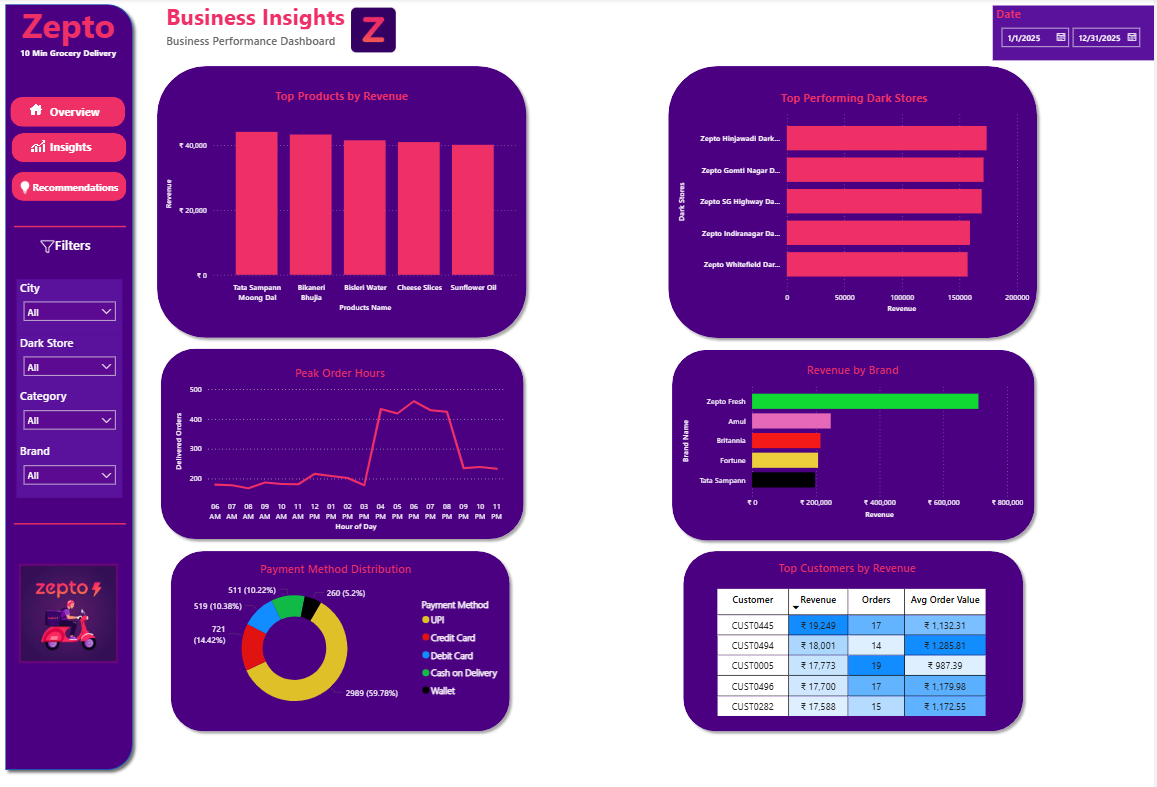

The page's visual inventory and layout, read from the dashboard file:
{"tool":"powerbi","page":{"name":"Business Analytics","canvas":[1400,1050],"ordinal":1},"visuals":[{"type":"shape","box":[842.1,492.1,534.2,288.2],"z":0},{"type":"shape","box":[238.6,775.7,500,273.8],"z":1000},{"type":"shape","box":[0,0,199.5,1049.5],"z":2000},{"type":"image","box":[23.5,799.2,152.5,159.1],"z":3000},{"type":"textbox","box":[19.4,0,159.3,82.9],"z":4000},{"type":"textbox","box":[18.1,63.5,161.9,28.5],"z":5000},{"type":"shape","box":[16.9,139.5,164.3,43],"z":6000,"group":"g1"},{"type":"textbox","box":[70.4,336.4,75.6,35.2],"z":6000},{"type":"shape","box":[16.9,194.2,164.3,41.7],"z":7000,"group":"g2"},{"type":"image","box":[23.5,318.1,92.6,73],"z":7000},{"type":"image","box":[2.6,113.4,101.7,96.5],"z":8000,"group":"g1"},{"type":"shape","box":[20.9,315.5,160.4,20.9],"z":8000},{"type":"image","box":[14.1,174,84.7,80],"z":9000,"group":"g2"},{"type":"slicer","title":"City","fields":{"Values":["Customers.city"]},"box":[24.8,401.6,151.2,78.2],"z":9000},{"type":"textbox","box":[67.8,144.7,104.3,33.9],"z":10000,"group":"g1"},{"type":"shape","box":[20.9,737.9,160.4,27.4],"z":10000},{"type":"textbox","box":[67.8,196.9,87.4,36.5],"z":11000,"group":"g2"},{"type":"slicer","title":"Dark Store","fields":{"Values":["Dark_Stores.store_name"]},"box":[24.8,479.8,151.2,78.2],"z":11000},{"type":"slicer","title":"Category","fields":{"Values":["Categories.category_name"]},"box":[24.8,558,151.2,78.2],"z":12000},{"type":"slicer","title":"Date","fields":{"Values":["Calendar.Date"]},"box":[1180.1,0,220.2,68.7],"z":13000},{"type":"textbox","box":[233.2,0,272,55.7],"z":14000},{"type":"textbox","box":[233.2,45.3,256.5,36.3],"z":15000},{"type":"image","box":[489.6,9.1,92,73.8],"z":16000},{"type":"shape","box":[217.7,88.7,543.7,404.2],"z":17000},{"type":"shape","box":[222.4,492.1,534.2,288.2],"z":18000},{"type":"shape","box":[838.3,88.7,542.4,404.2],"z":19000},{"type":"clusteredColumnChart","title":"Top Products by Revenue","fields":{"Category":["Products.product_name"],"Y":["Order_Items.Product Revenue"]},"box":[233.4,129.1,511.1,324.6],"z":20000},{"type":"donutChart","title":"Payment Method Distribution","fields":{"Category":["Customer_Orders.payment_method"],"Y":["Customer_Orders.Orders | Total"]},"box":[239.5,798.7,492.1,228.9],"z":21000},{"type":"clusteredBarChart","title":"Top Performing Dark Stores","fields":{"Category":["Dark_Stores.store_name"],"Y":["Dark_Stores.Revenue by Store"]},"box":[863.1,135.6,492.8,320.7],"z":22000},{"type":"clusteredBarChart","title":"Revenue by Brand","fields":{"Category":["Brands.brand_name"],"Y":["Order_Items.Product Revenue"]},"box":[860.5,522.4,497.4,228.9],"z":23000},{"type":"shape","title":"ffddd","box":[859.2,775.7,500.7,273.8],"z":24000},{"type":"lineChart","title":"Peak Order Hours","fields":{"Category":["Customer_Orders.Hour Label"],"Y":["Customer_Orders.Orders Count"]},"box":[249,522.8,478.5,242.5],"z":25000},{"type":"pivotTable","fields":{"Rows":["Customer_Orders.customer_id"],"Values":["Customer_Orders.Revenue","Customer_Orders.Orders Count","Customer_Orders.Order | Average Value"]},"box":[908.7,830.5,401.6,194.3],"z":26000},{"type":"textbox","box":[1010.4,792.7,221.6,37.8],"z":27000},{"type":"slicer","title":"Brand","fields":{"Values":["Brands.brand_name"]},"box":[24.8,636.2,151.2,78.2],"z":28000},{"type":"group","id":"g1","title":"Group 1","box":[2.6,113.4,178.6,96.5],"z":29000},{"type":"group","id":"g2","title":"Group 2","box":[14.1,174,167.1,80],"z":30000},{"type":"group","id":"g3","title":"Group 3","box":[10.4,249,170.8,43],"z":31000},{"type":"actionButton","title":"overview btn","box":[15.7,141.1,164.6,40.8],"z":32000},{"type":"actionButton","title":"Insight btn","box":[17.2,194.4,164.6,42.3],"z":33000},{"type":"actionButton","title":"Recommendation btn","box":[20.4,250.8,164.6,42.3],"z":34000},{"type":"shape","box":[16.9,249,164.3,41.7],"z":35000,"group":"g3"},{"type":"image","box":[10.4,254.2,52.2,32.6],"z":36000,"group":"g3"},{"type":"textbox","box":[43,255.5,136.9,36.5],"z":37000,"group":"g3"}]}

Visuals, with their boxes on the page's 1400x1050 design canvas (x1, y1, x2, y2). These are canvas units, not pixel positions in the 1157x787 screenshot, which may show the page scaled, cropped or inside an application window:
shape: box(842, 492, 1376, 780)
shape: box(239, 776, 739, 1050)
shape: box(0, 0, 200, 1050)
image: box(24, 799, 176, 958)
textbox: box(19, 0, 179, 83)
textbox: box(18, 64, 180, 92)
shape: box(17, 140, 181, 182)
textbox: box(70, 336, 146, 372)
shape: box(17, 194, 181, 236)
image: box(24, 318, 116, 391)
image: box(3, 113, 104, 210)
shape: box(21, 316, 181, 336)
image: box(14, 174, 99, 254)
"City" slicer: box(25, 402, 176, 480)
textbox: box(68, 145, 172, 179)
shape: box(21, 738, 181, 765)
textbox: box(68, 197, 155, 233)
"Dark Store" slicer: box(25, 480, 176, 558)
"Category" slicer: box(25, 558, 176, 636)
"Date" slicer: box(1180, 0, 1400, 69)
textbox: box(233, 0, 505, 56)
textbox: box(233, 45, 490, 82)
image: box(490, 9, 582, 83)
shape: box(218, 89, 761, 493)
shape: box(222, 492, 757, 780)
shape: box(838, 89, 1381, 493)
"Top Products by Revenue" clusteredColumnChart: box(233, 129, 744, 454)
"Payment Method Distribution" donutChart: box(240, 799, 732, 1028)
"Top Performing Dark Stores" clusteredBarChart: box(863, 136, 1356, 456)
"Revenue by Brand" clusteredBarChart: box(860, 522, 1358, 751)
"ffddd" shape: box(859, 776, 1360, 1050)
"Peak Order Hours" lineChart: box(249, 523, 728, 765)
pivotTable - Customer_Orders.customer_id x Customer_Orders.Revenue: box(909, 830, 1310, 1025)
textbox: box(1010, 793, 1232, 830)
"Brand" slicer: box(25, 636, 176, 714)
"Group 1" group: box(3, 113, 181, 210)
"Group 2" group: box(14, 174, 181, 254)
"Group 3" group: box(10, 249, 181, 292)
"overview btn" actionButton: box(16, 141, 180, 182)
"Insight btn" actionButton: box(17, 194, 182, 237)
"Recommendation btn" actionButton: box(20, 251, 185, 293)
shape: box(17, 249, 181, 291)
image: box(10, 254, 63, 287)
textbox: box(43, 256, 180, 292)
